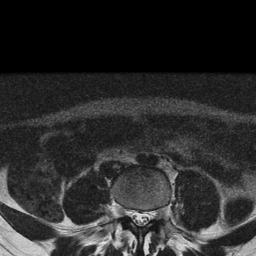CCS_stenosis: (136, 202, 144, 234)
LFS_normal: (153, 200, 161, 227)
LLS_normal: (144, 200, 152, 230)
RFS_normal: (121, 197, 129, 225)
RLS_normal: (129, 199, 137, 229)
